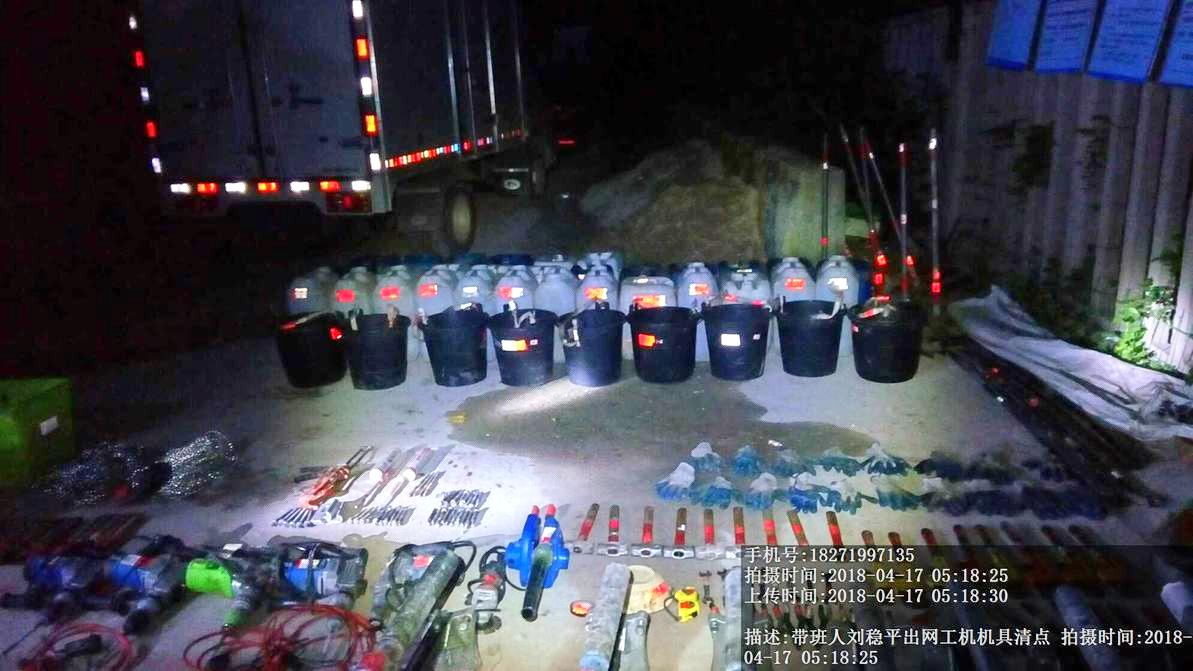DMJ: (468, 549, 502, 631)
DZ: (182, 540, 272, 640), (285, 540, 361, 657), (104, 540, 182, 640)
GFJ: (507, 511, 570, 626)
